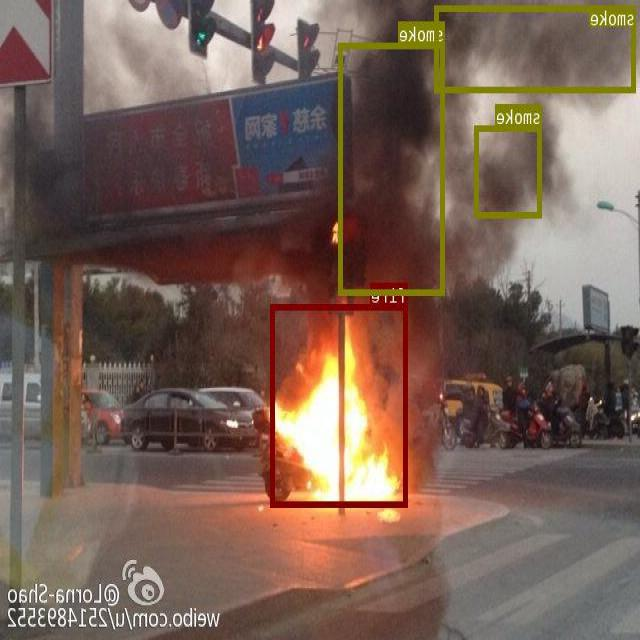fire: (272, 304, 408, 506)
smoke: (339, 42, 446, 294), (436, 5, 636, 92), (475, 125, 543, 217)
